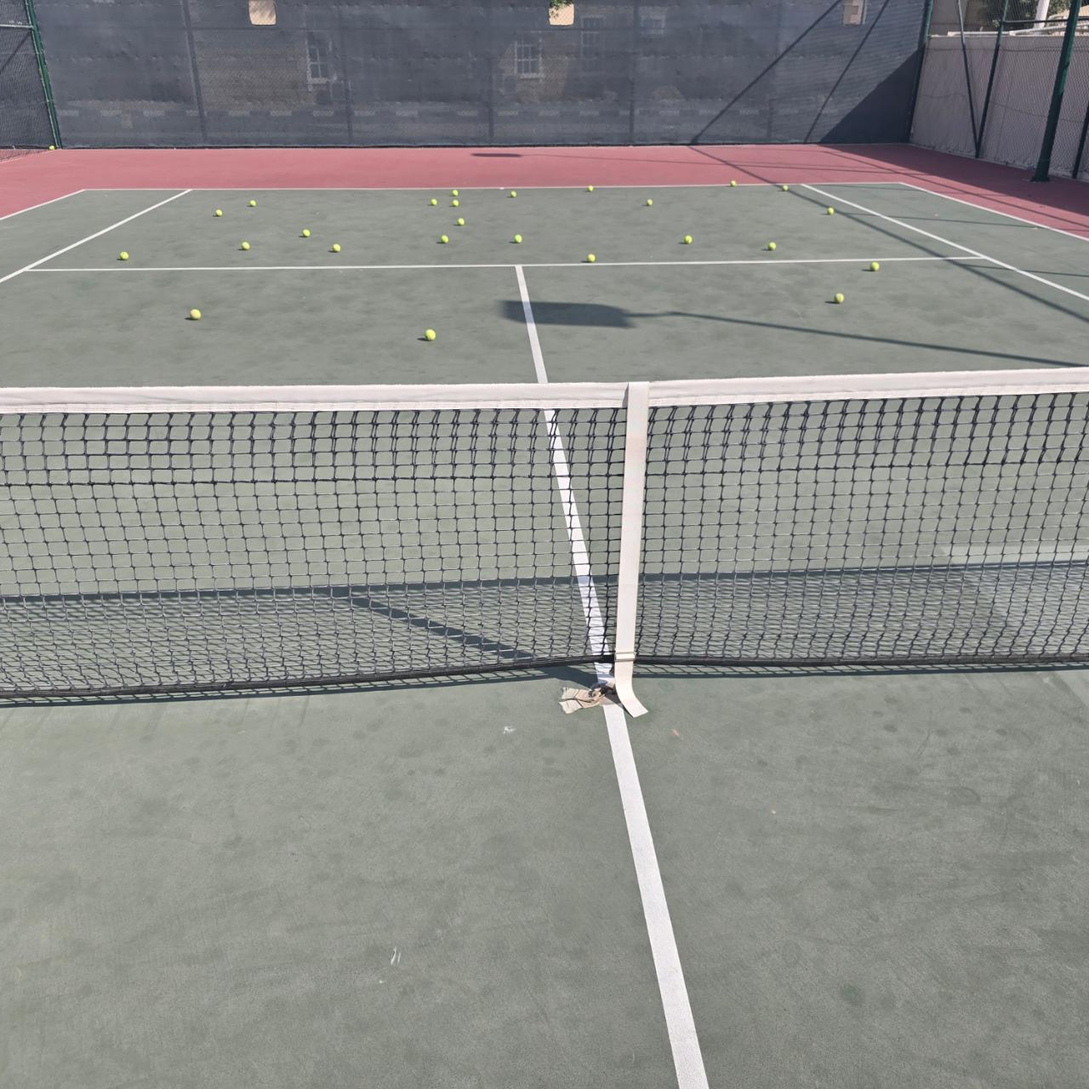tennis-ball: (424, 329, 437, 341), (189, 308, 201, 320), (833, 293, 844, 305), (587, 253, 596, 263), (119, 251, 129, 260), (870, 262, 879, 272), (332, 243, 341, 252), (241, 241, 250, 250), (684, 235, 693, 244), (302, 228, 310, 238), (514, 234, 522, 244), (457, 218, 465, 227), (768, 242, 776, 251), (441, 235, 449, 243), (452, 199, 459, 208), (646, 198, 653, 207), (249, 199, 256, 207), (215, 209, 223, 216), (431, 198, 438, 206), (452, 189, 459, 197), (510, 190, 517, 198), (827, 207, 834, 215), (587, 185, 594, 192), (730, 180, 737, 187), (782, 185, 789, 191), (49, 145, 55, 151)
